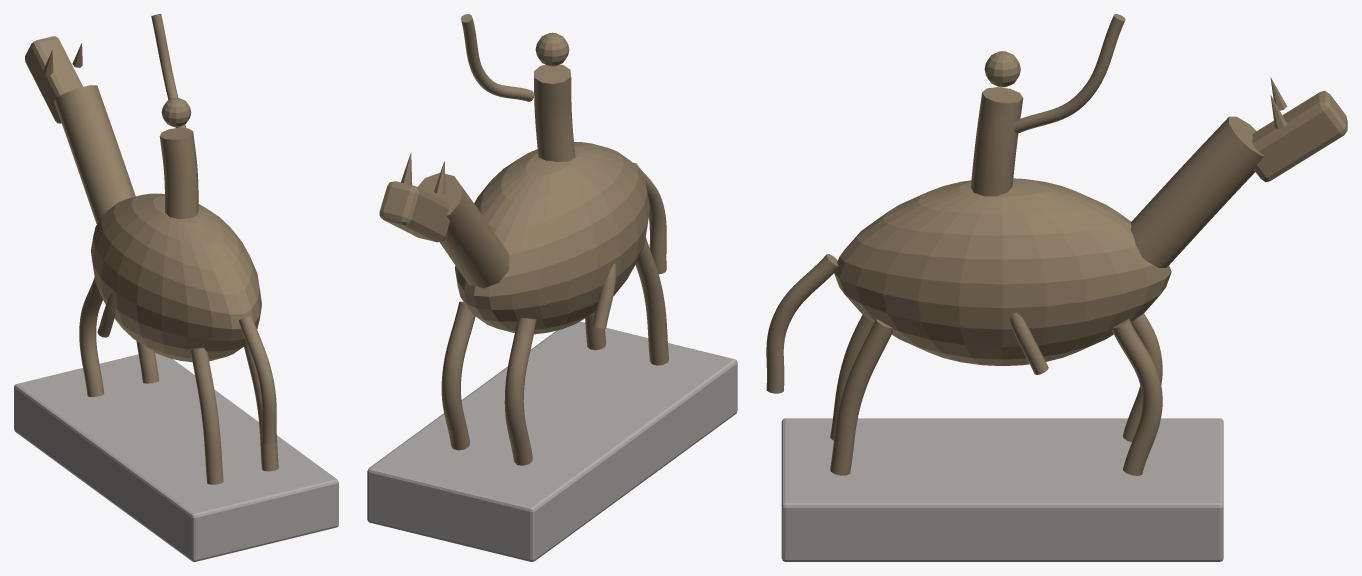
Rendered from equestrian.glb.
3 views of the same model, side by side, from view 1: azimuth 30°, elevation 25°; view 2: azimuth 150°, elevation 25°; view 3: azimuth 270°, elevation 25° (orthographic). The views are drawn at different scales.
Parts seen in each view (by area): view 1: equestrian; view 2: equestrian; view 3: equestrian.
Boxes of the visible parts, x1=… form: equestrian: x1=14, y1=14, x2=338, y2=561; equestrian: x1=367, y1=14, x2=737, y2=561; equestrian: x1=766, y1=14, x2=1347, y2=561.
Size of the model in its own units: 1.6 by 4.42 by 4.47.
